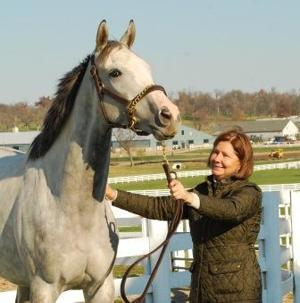person: (103, 125, 264, 303)
